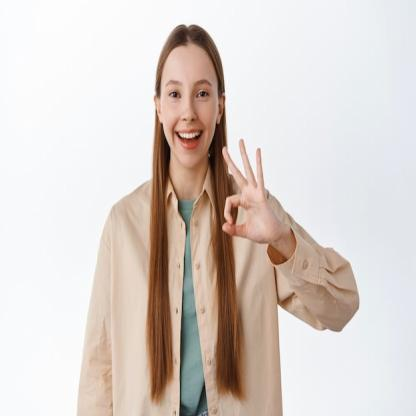ok: (219, 136, 274, 249)
